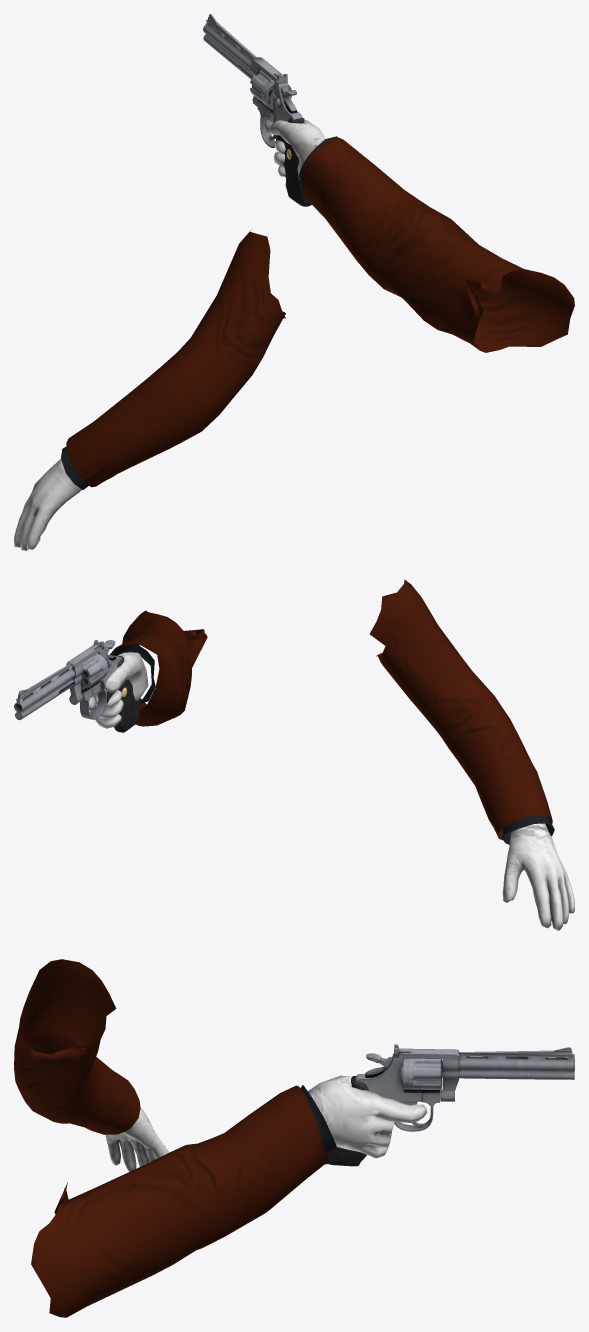
Rendered from frame_11.obj.
3 views of the same model, one above another, from view 1: azimuth 30°, elevation 25°; view 2: azimuth 150°, elevation 25°; view 3: azimuth 270°, elevation 25° (orthographic). The views are drawn at different scales.
Visible parts, largest first — view 1: PlayerModelMerged.001_PlayerModelMerged, Plane.008_meshId0_name; view 2: PlayerModelMerged.001_PlayerModelMerged, Plane.008_meshId0_name, Plane.001_meshId0_name.001; view 3: PlayerModelMerged.001_PlayerModelMerged, Plane.008_meshId0_name, Plane.001_meshId0_name.001.
Boxes of the visible parts, bbox=[...] form: PlayerModelMerged.001_PlayerModelMerged: bbox=[14, 120, 574, 550]; Plane.008_meshId0_name: bbox=[203, 14, 311, 206]; PlayerModelMerged.001_PlayerModelMerged: bbox=[89, 579, 574, 930]; Plane.008_meshId0_name: bbox=[14, 640, 139, 732]; Plane.001_meshId0_name.001: bbox=[81, 653, 108, 690]; PlayerModelMerged.001_PlayerModelMerged: bbox=[14, 959, 427, 1317]; Plane.008_meshId0_name: bbox=[327, 1044, 574, 1166]; Plane.001_meshId0_name.001: bbox=[403, 1058, 442, 1089].
Size of what is drawn, in the model's own units: 1.15 by 0.6439 by 0.9783.
